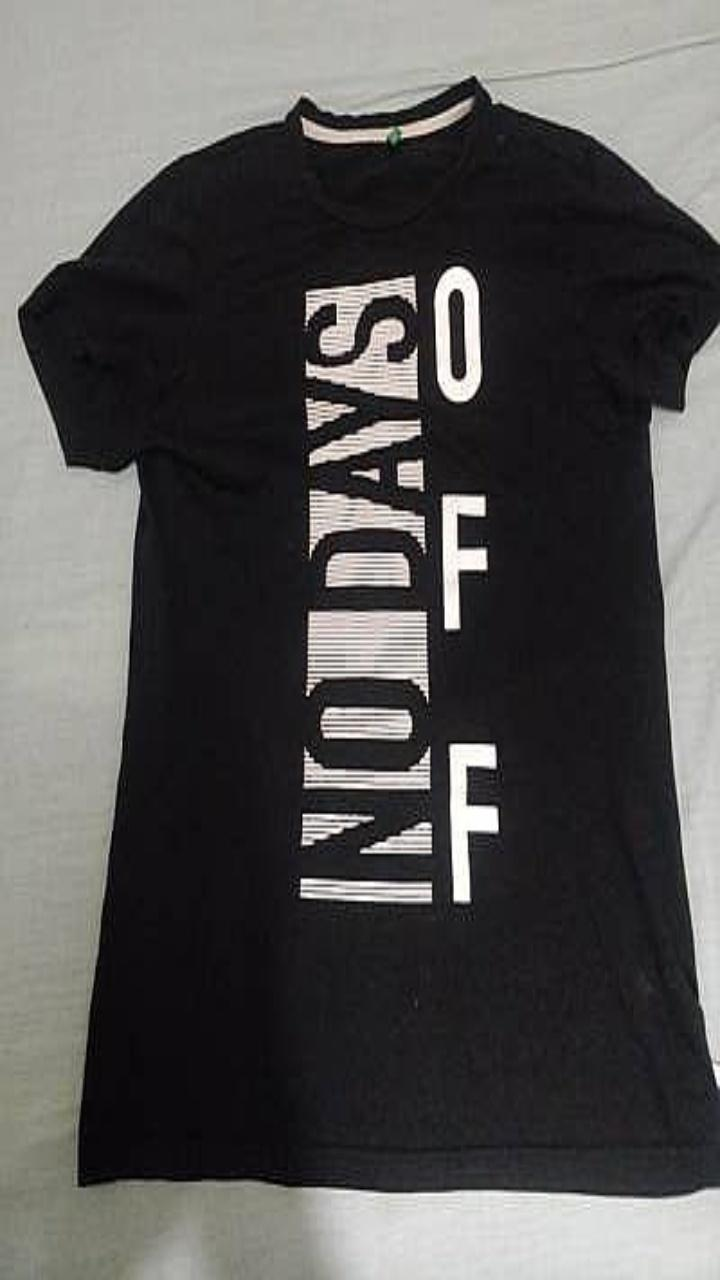T-Shirt: (18, 75, 719, 1194)
